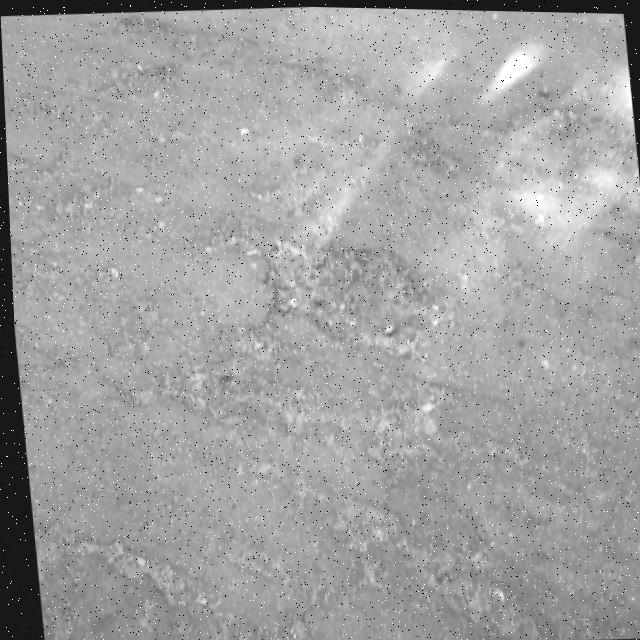pothole: (207, 193, 463, 369)
